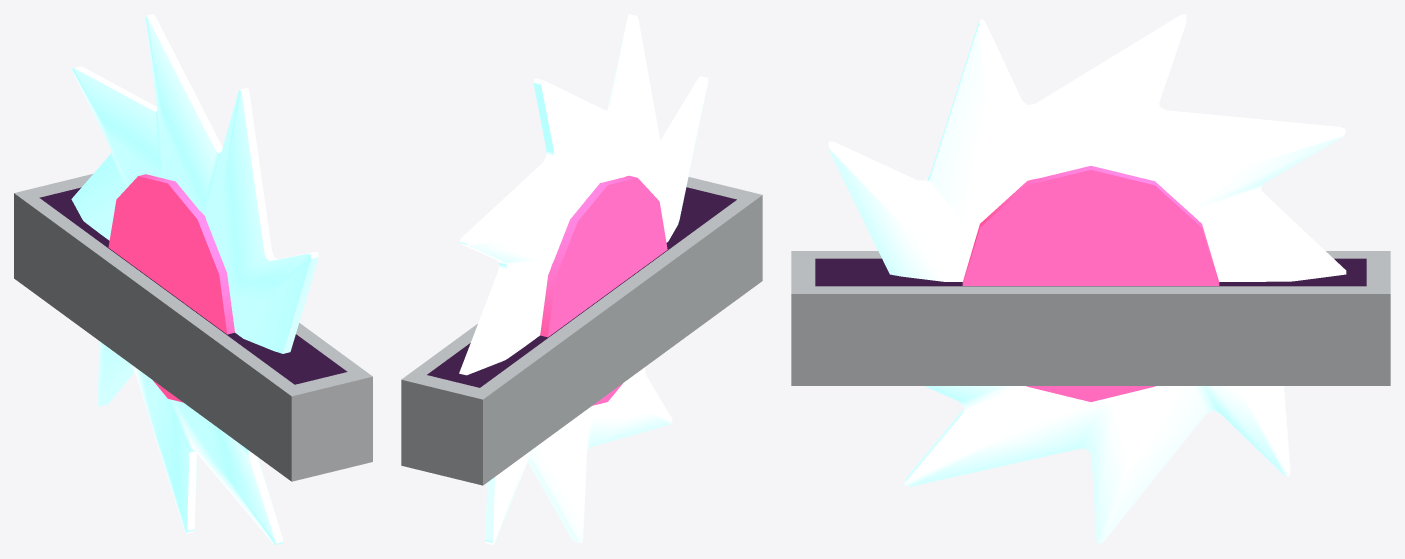
The model's file is SawVertical.fbx.
The picture shows the model from 3 angles, left to right: view 1: azimuth 30°, elevation 25°; view 2: azimuth 150°, elevation 25°; view 3: azimuth 270°, elevation 25°; orthographic projection. The views are drawn at different scales.
Parts seen in each view (by area): view 1: Cylinder.040, Cube.042, Cylinder.041, Cube.043; view 2: Cylinder.040, Cube.042, Cylinder.041, Cube.043; view 3: Cylinder.040, Cube.042, Cylinder.041, Cube.043.
Part boxes in pixels (left/top/right/bottom): Cylinder.040: left=71, top=14, right=318, bottom=544; Cube.042: left=14, top=174, right=372, bottom=481; Cylinder.041: left=108, top=174, right=234, bottom=402; Cube.043: left=39, top=187, right=347, bottom=384; Cylinder.040: left=459, top=14, right=708, bottom=544; Cube.042: left=401, top=177, right=762, bottom=485; Cylinder.041: left=540, top=175, right=667, bottom=405; Cube.043: left=427, top=187, right=736, bottom=387; Cylinder.040: left=828, top=14, right=1346, bottom=544; Cube.042: left=791, top=251, right=1390, bottom=385; Cylinder.041: left=962, top=166, right=1219, bottom=401; Cube.043: left=815, top=258, right=1366, bottom=286.
Size of the model in its own units: 0.3138 by 1.8 by 1.86.
